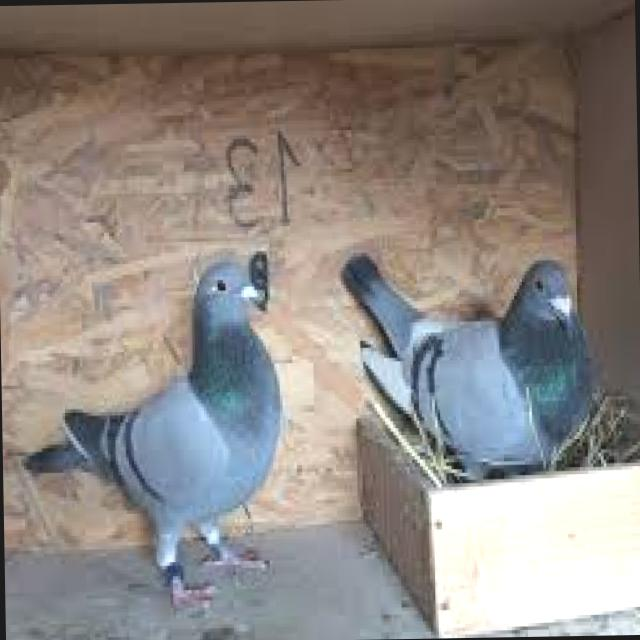bird: (19, 260, 279, 627), (330, 244, 602, 490)
